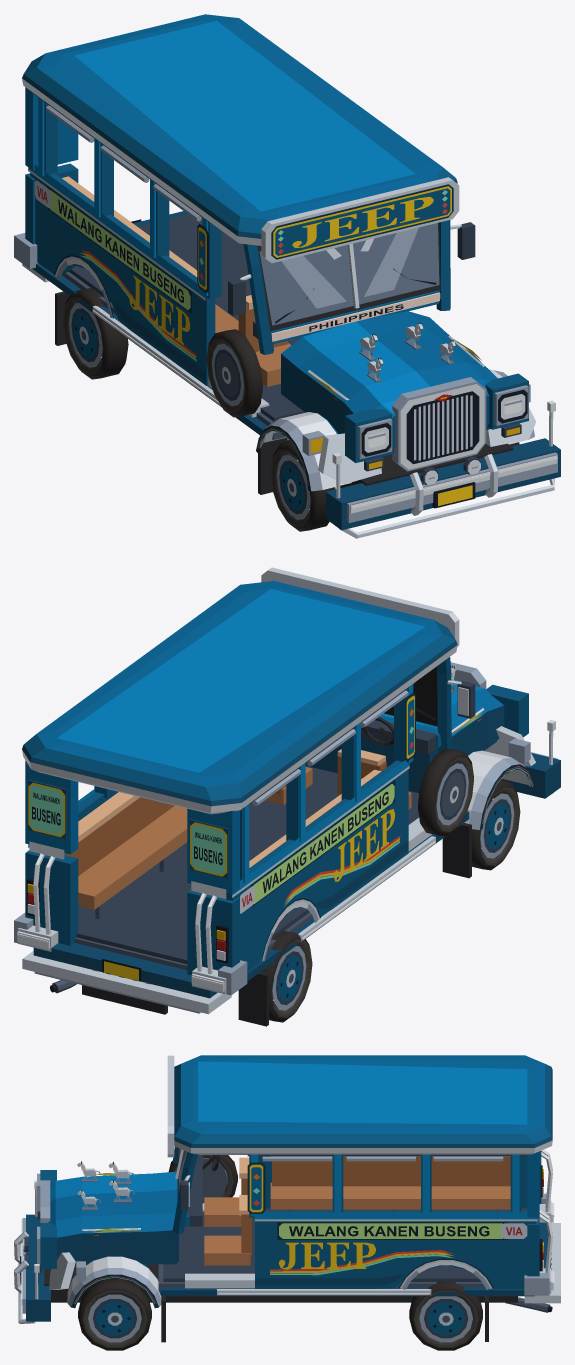
The model's file is jeepney-blue.glb.
The picture shows the model from 3 angles, top to bottom: view 1: azimuth 30°, elevation 25°; view 2: azimuth 150°, elevation 25°; view 3: azimuth 270°, elevation 25°; orthographic projection. The views are drawn at different scales.
Visible parts, largest first — view 1: Jeepney - Blue; view 2: Jeepney - Blue; view 3: Jeepney - Blue.
Boxes of the visible parts, box(x1,y1,x2,y2) form: Jeepney - Blue: box(14, 14, 560, 538); Jeepney - Blue: box(14, 567, 560, 1026); Jeepney - Blue: box(14, 1055, 560, 1350).
Bounding box in the file's own units: 2.17 × 2.37 × 5.34.
Materials: 1 (1 with a texture image).
